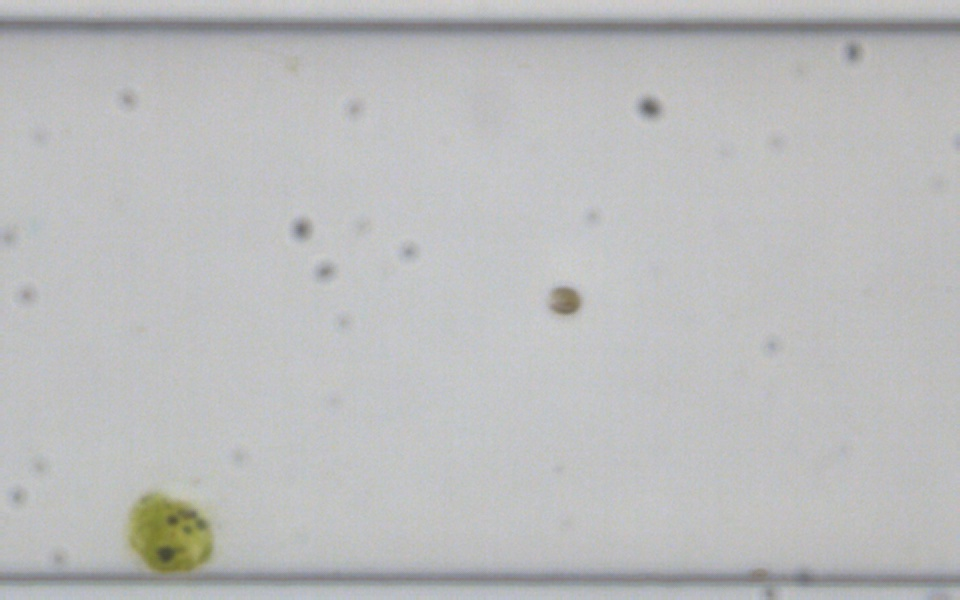Effrenium: (544, 283, 582, 317)
Haematococcus: (126, 490, 215, 574)
